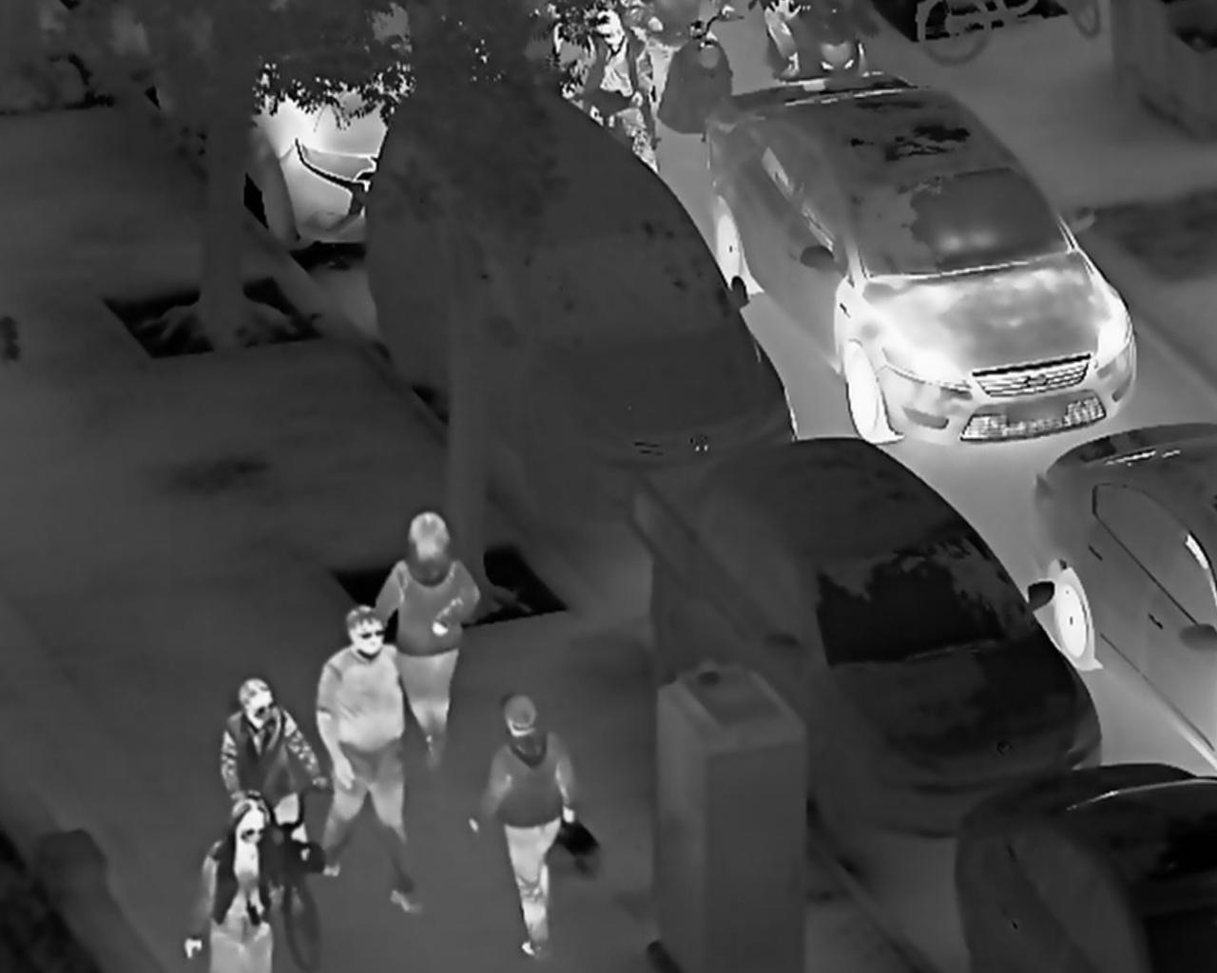person: (310, 601, 426, 918), (468, 691, 585, 964), (370, 508, 483, 774), (217, 673, 332, 864), (183, 791, 284, 973), (570, 11, 657, 173)
